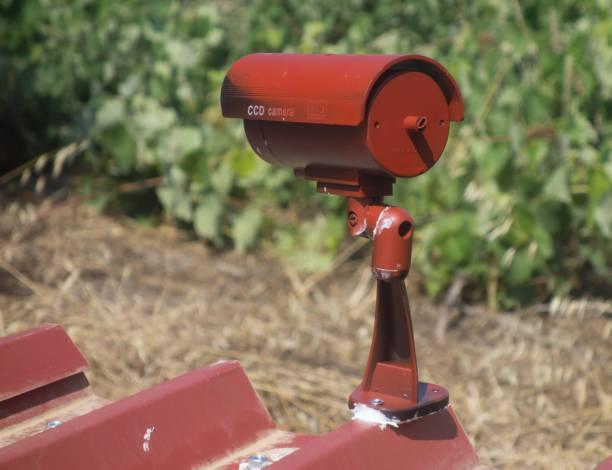camera: (204, 15, 474, 214)
